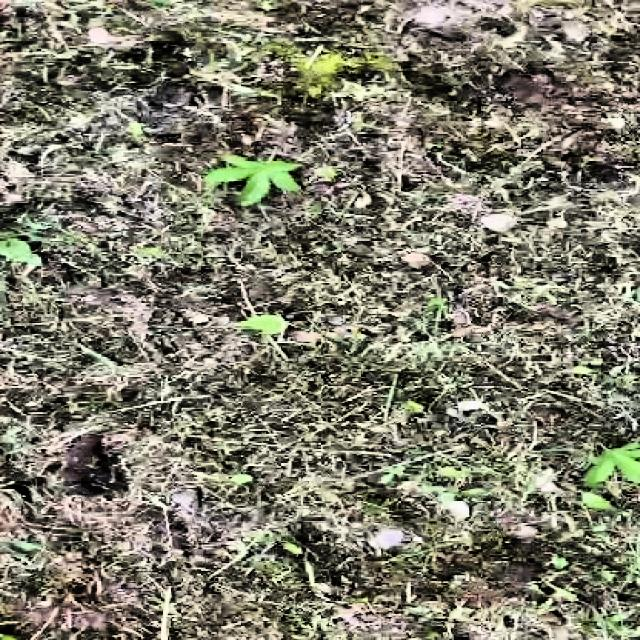Weeds: (208, 151, 306, 209), (581, 437, 640, 491)
